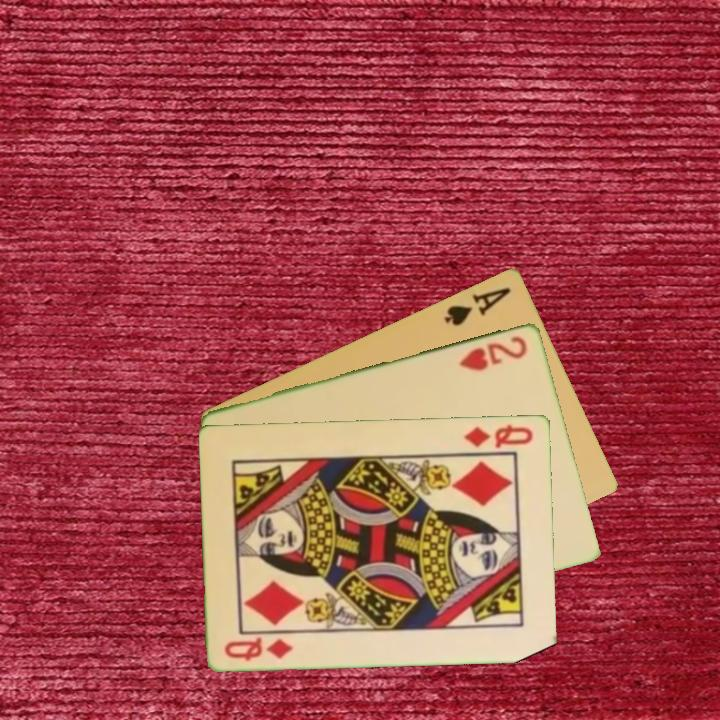2h: (456, 332, 530, 374)
As: (440, 283, 514, 329)
Qd: (222, 633, 297, 663), (461, 421, 536, 450)
